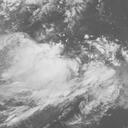cyclone: (11, 33, 117, 107)
